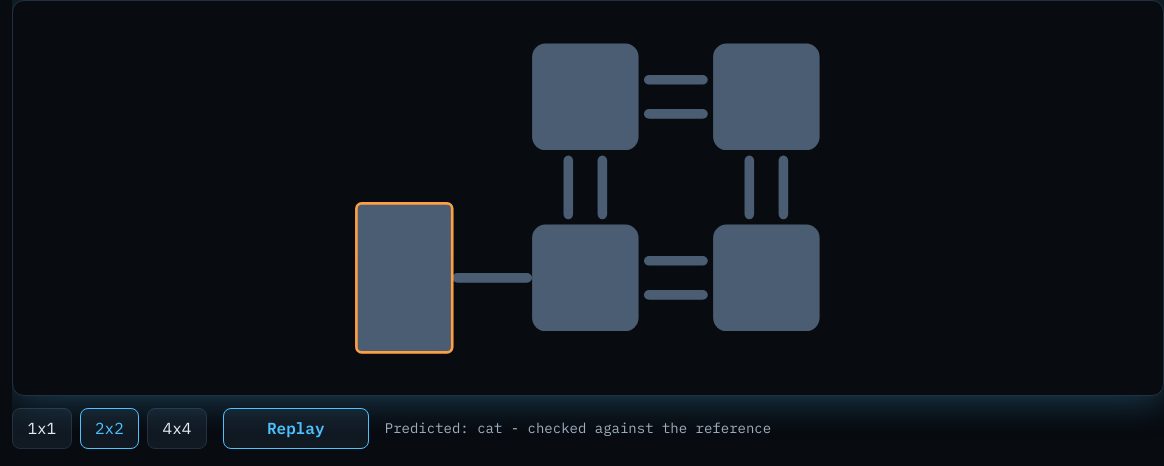
Test case: HeroStage › Replay plays the same result again without simulating again
Click the button "Replay" at (296, 429), box [223,408,369,449]
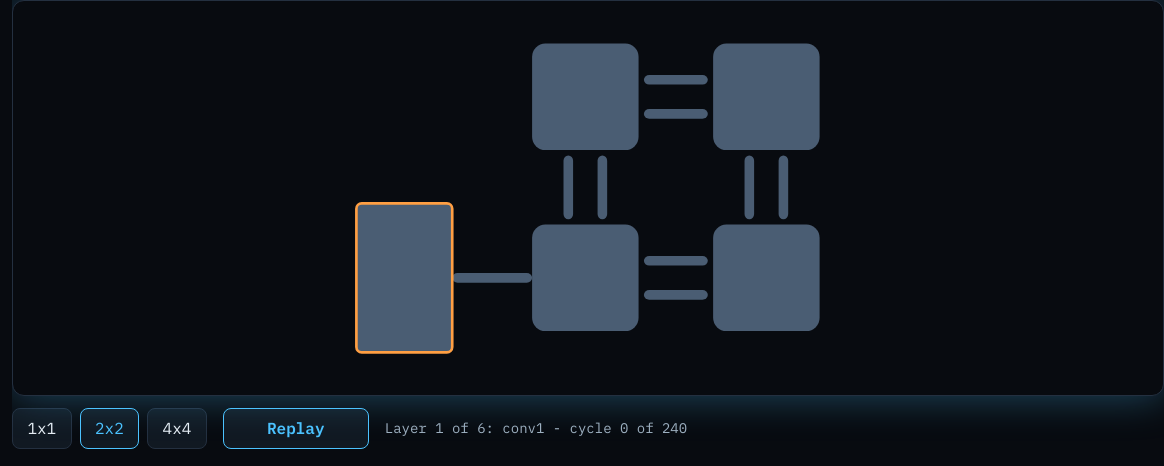
Result: the text with class "hero-status" reads "Layer 1 of 6: conv1 - cycle 0 of 240" at [385,419,687,437]
